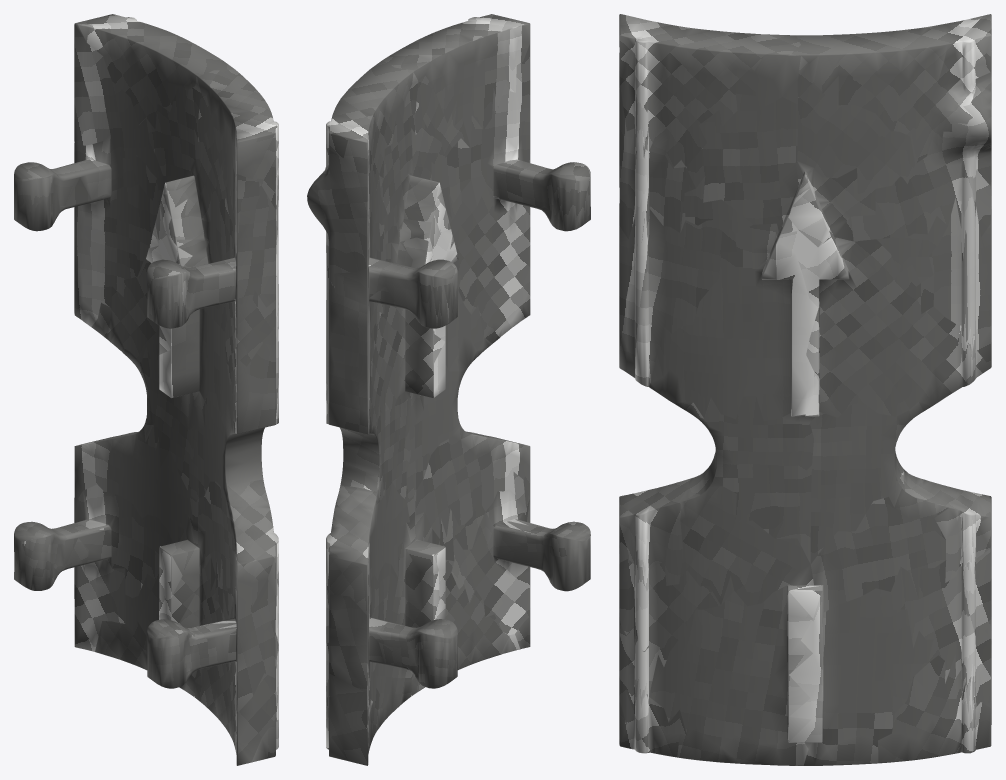
File: JP_사물_s2_sm_road_mark.glb
3 views of the same model, side by side, from view 1: azimuth 30°, elevation 25°; view 2: azimuth 150°, elevation 25°; view 3: azimuth 270°, elevation 25° (orthographic). The views are drawn at different scales.
Parts seen in each view (by area): view 1: tripo_node_a03264fd-4ca7-4623-88b8-2dcb5bba2565; view 2: tripo_node_a03264fd-4ca7-4623-88b8-2dcb5bba2565; view 3: tripo_node_a03264fd-4ca7-4623-88b8-2dcb5bba2565.
Part boxes in pixels (left/top/right/bottom): tripo_node_a03264fd-4ca7-4623-88b8-2dcb5bba2565: left=14, top=14, right=278, bottom=765; tripo_node_a03264fd-4ca7-4623-88b8-2dcb5bba2565: left=307, top=14, right=590, bottom=765; tripo_node_a03264fd-4ca7-4623-88b8-2dcb5bba2565: left=619, top=14, right=991, bottom=765.
Size of the model in its own units: 0.2614 by 0.9999 by 0.4741.
1 material, 1 textured.
